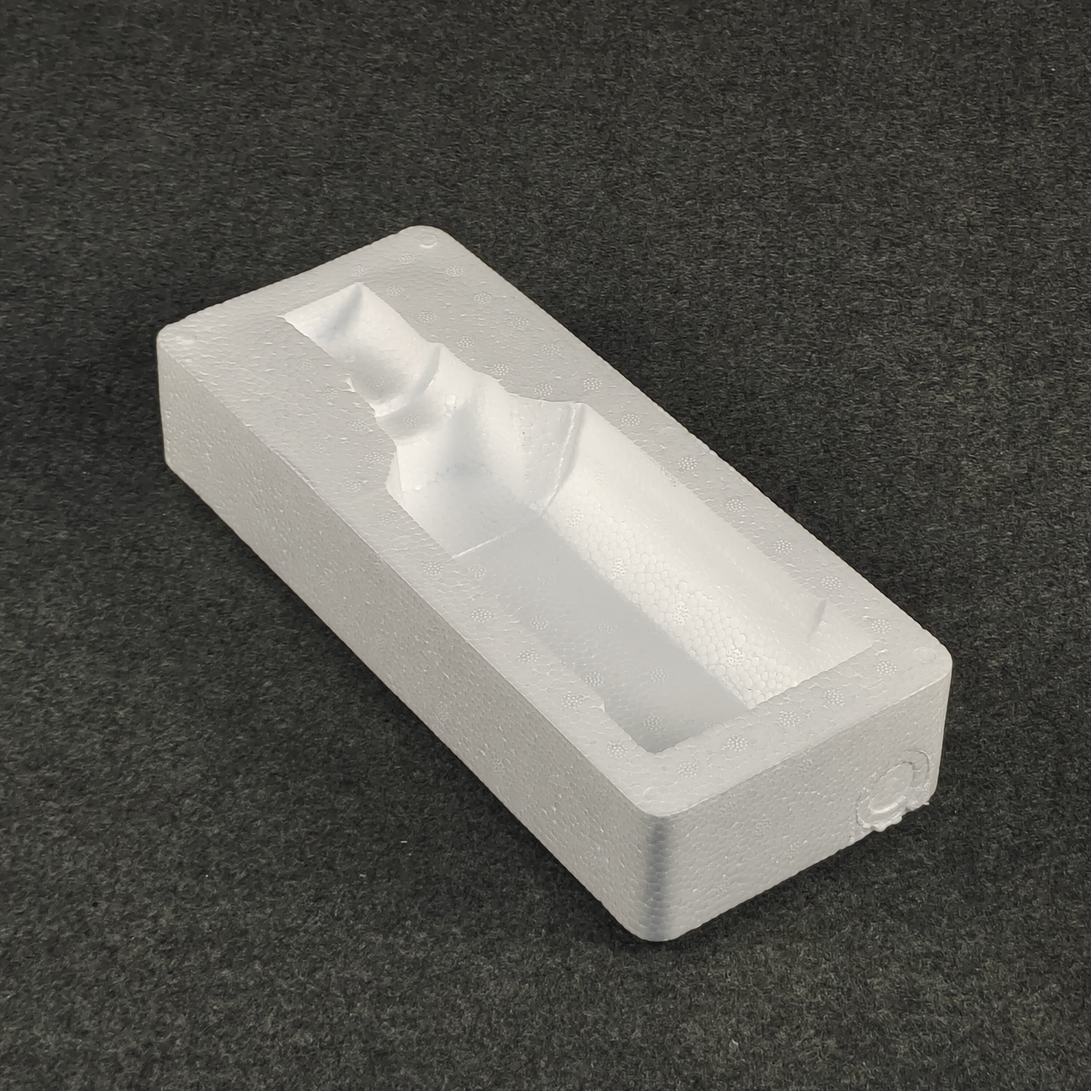Boxes: (158, 227, 951, 940)
